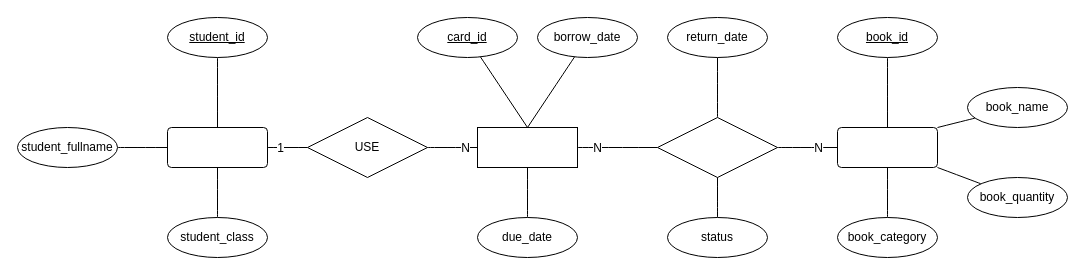
Some shapes in this 1085 by 275 pixel diagram are drawn without their labels. The shapes that lost their labels are listed below. From the top down, each one's box as (x1, y1, x2, y2) in pixels, then its label:
(166, 126, 268, 168): STUDENTS
(476, 126, 578, 168): LOAN_CARDS
(656, 116, 778, 178): LOAN_DETAILS
(836, 126, 938, 168): BOOKS
